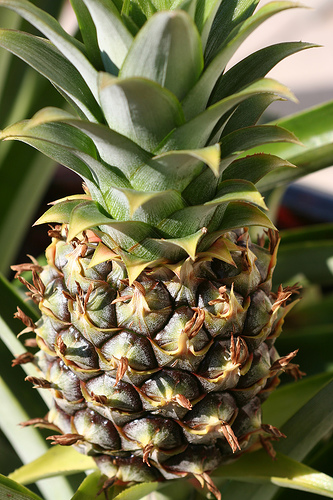pineapple: (0, 0, 322, 498)
